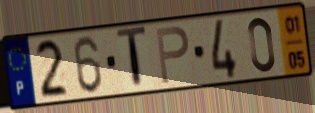0: (246, 16, 277, 75)
2: (34, 36, 71, 101)
4: (210, 16, 240, 82)
6: (72, 32, 104, 97)
P: (153, 24, 191, 86)
T: (115, 23, 149, 92)
